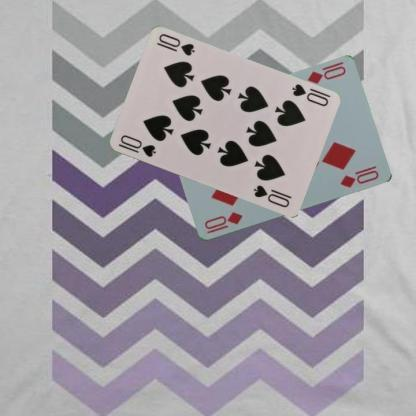10d: (304, 60, 348, 86), (202, 209, 244, 235)
10s: (288, 81, 330, 108), (115, 132, 157, 158)
